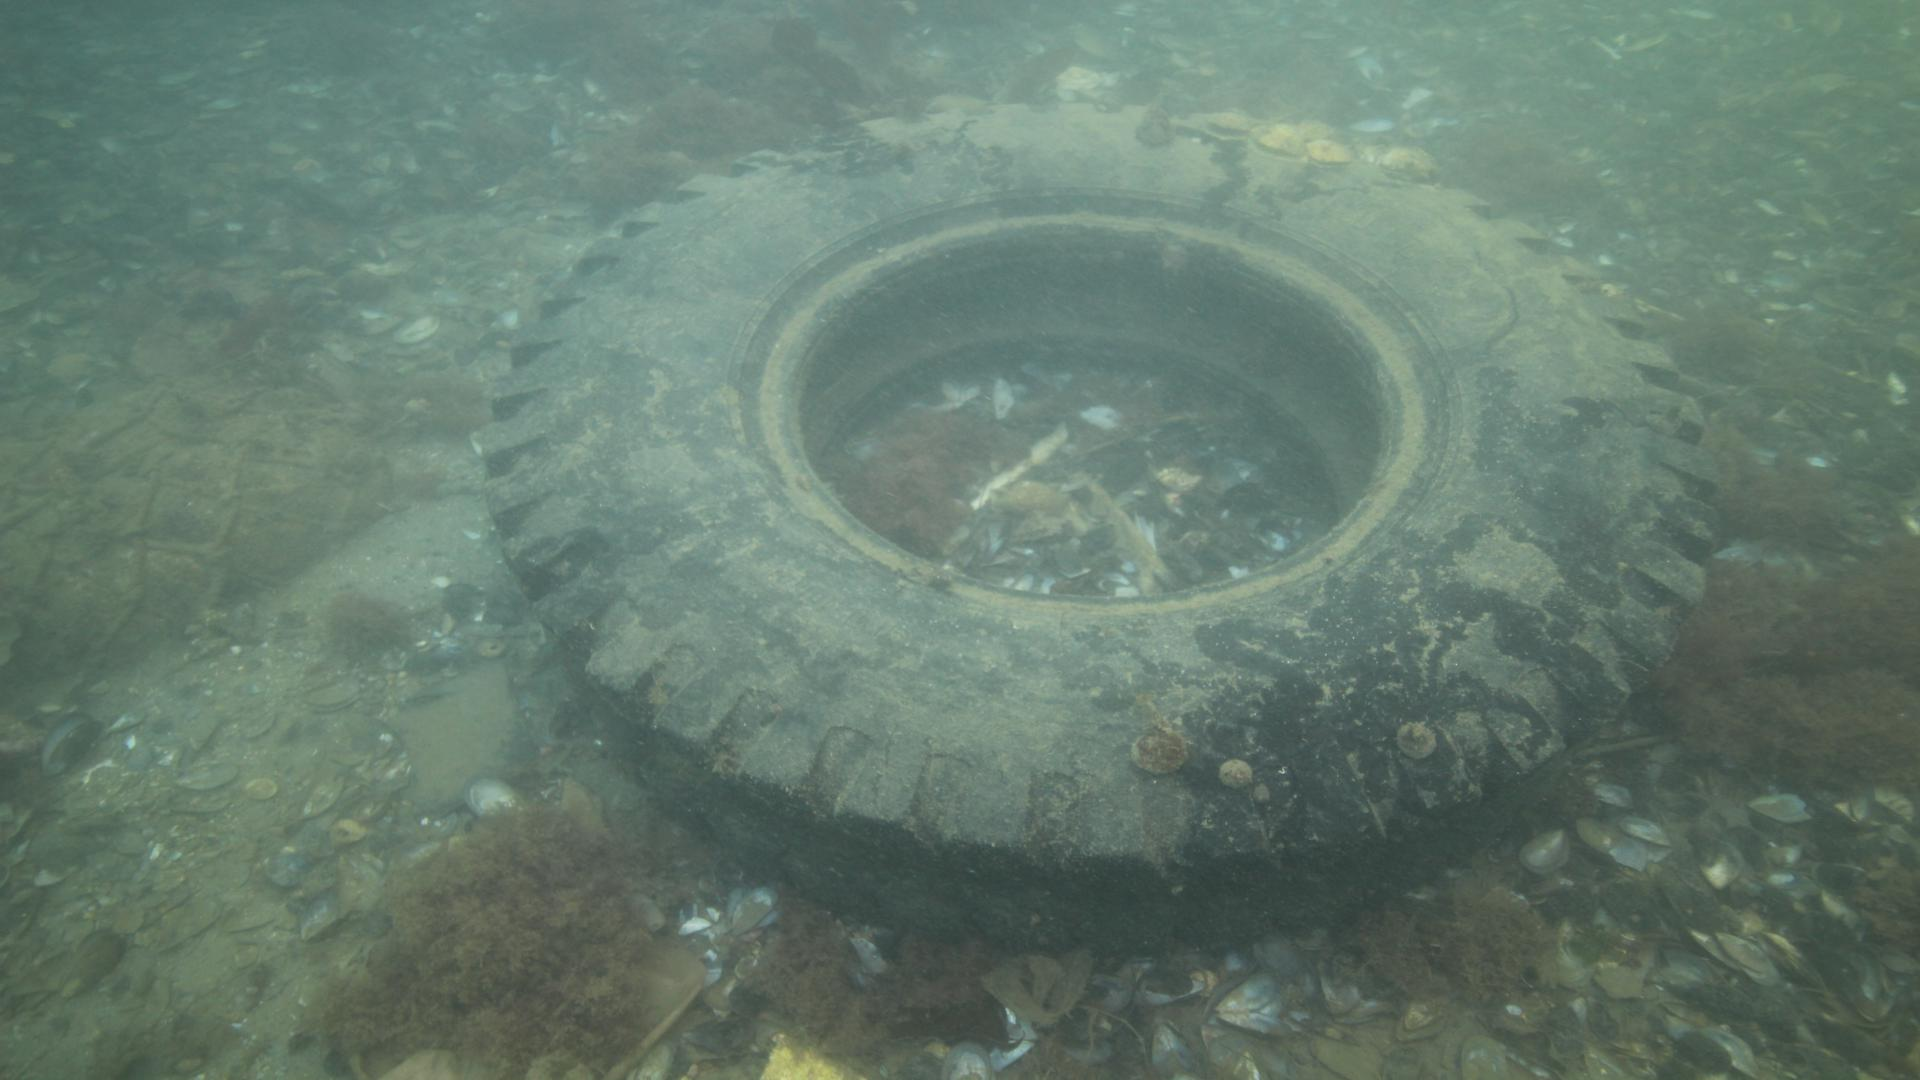tire: (476, 98, 1721, 961)
